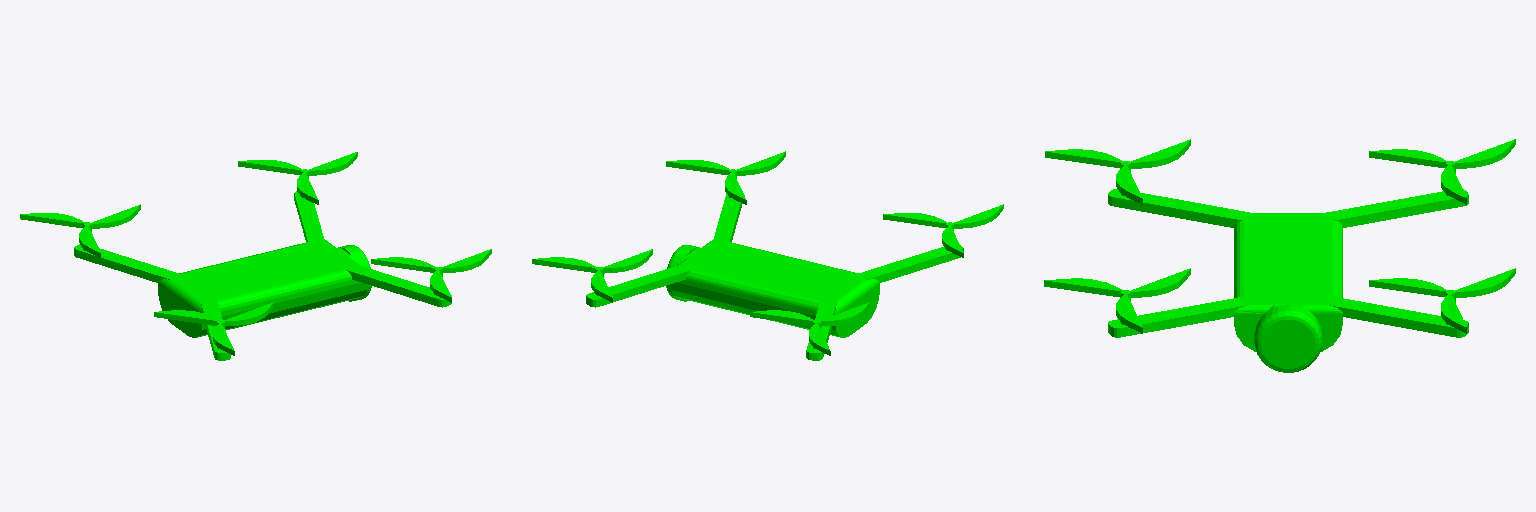
robot.urdf — drone:
<robot name="drone">

  <material name="DroneGreen">
    <color rgba="0.0 1.0 0.0 1.0"/>
  </material>
  <link name="drone_curr_mesh">
    <visual>
      <origin rpy="0 0 0"  xyz="0 0 0"/>
      <geometry>
        <mesh filename="package://drone_panda/meshes/fake_drone.STL"/>
      </geometry>
      <material name="DroneGreen"/>
    </visual>
  </link>
</robot>

--- Facts derived from the render (not from the file) ---
3 views of the same robot in one strip: view 1: azimuth 30°, elevation 25°; view 2: azimuth 150°, elevation 25°; view 3: azimuth 270°, elevation 25° (orthographic).
Model drone with 1 links and 0 joints (none), rooted at drone_curr_mesh, posed every joint at zero.
Visible links, largest first — view 1: drone_curr_mesh; view 2: drone_curr_mesh; view 3: drone_curr_mesh.
Link boxes in pixels (<box>): drone_curr_mesh: <box>20,152,491,360</box>; drone_curr_mesh: <box>532,151,1003,360</box>; drone_curr_mesh: <box>1044,139,1515,372</box>.
Size in the robot's own frame: 0.1306 by 0.1377 by 0.0289 metres.
1 mesh visuals loaded from 1 distinct referenced files (1 binary STL).